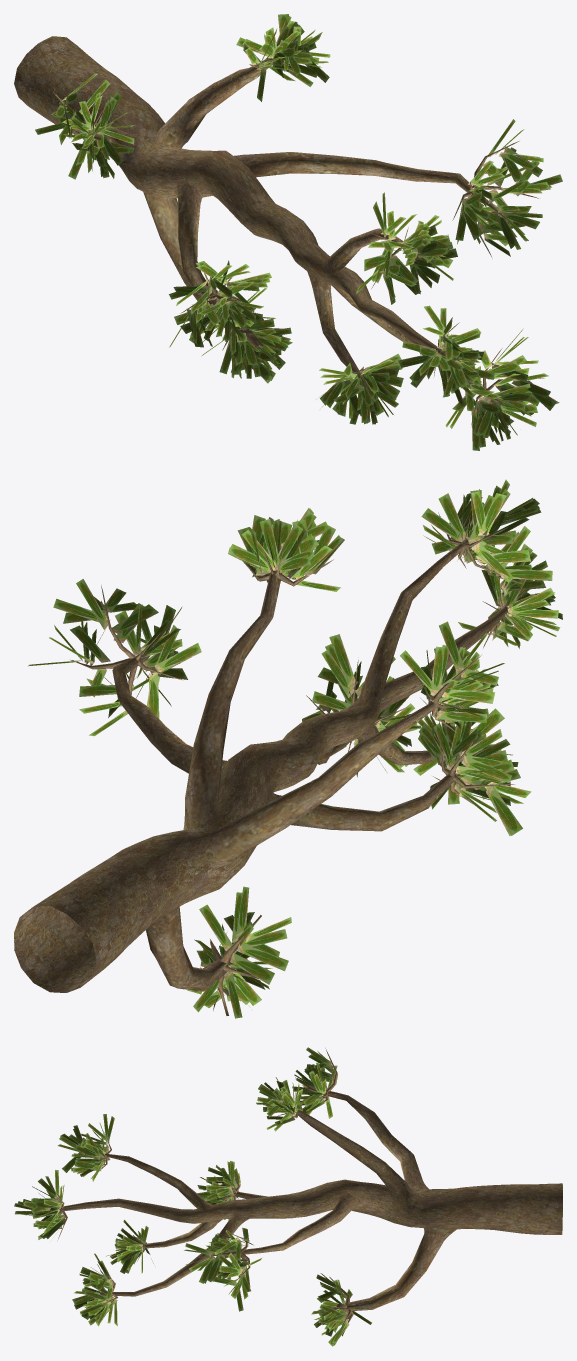
The model's file is arbol.obj.
3 renders of one model, top to bottom at view 1: azimuth 30°, elevation 25°; view 2: azimuth 150°, elevation 25°; view 3: azimuth 270°, elevation 25°, orthographic. The views are drawn at different scales.
Visible parts, largest first — view 1: Sahara_Desert_Trees; view 2: Sahara_Desert_Trees; view 3: Sahara_Desert_Trees.
Part boxes in pixels (x1,y1,x2,y2): Sahara_Desert_Trees: (14,14,562,450); Sahara_Desert_Trees: (14,479,562,1018); Sahara_Desert_Trees: (14,1047,562,1346).
Size of the model in its own units: 14.03 by 11.72 by 22.79.
